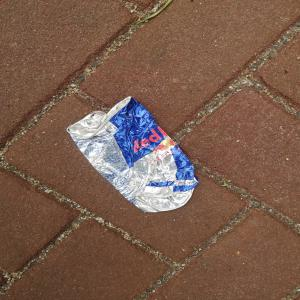Can: (64, 94, 205, 219)
